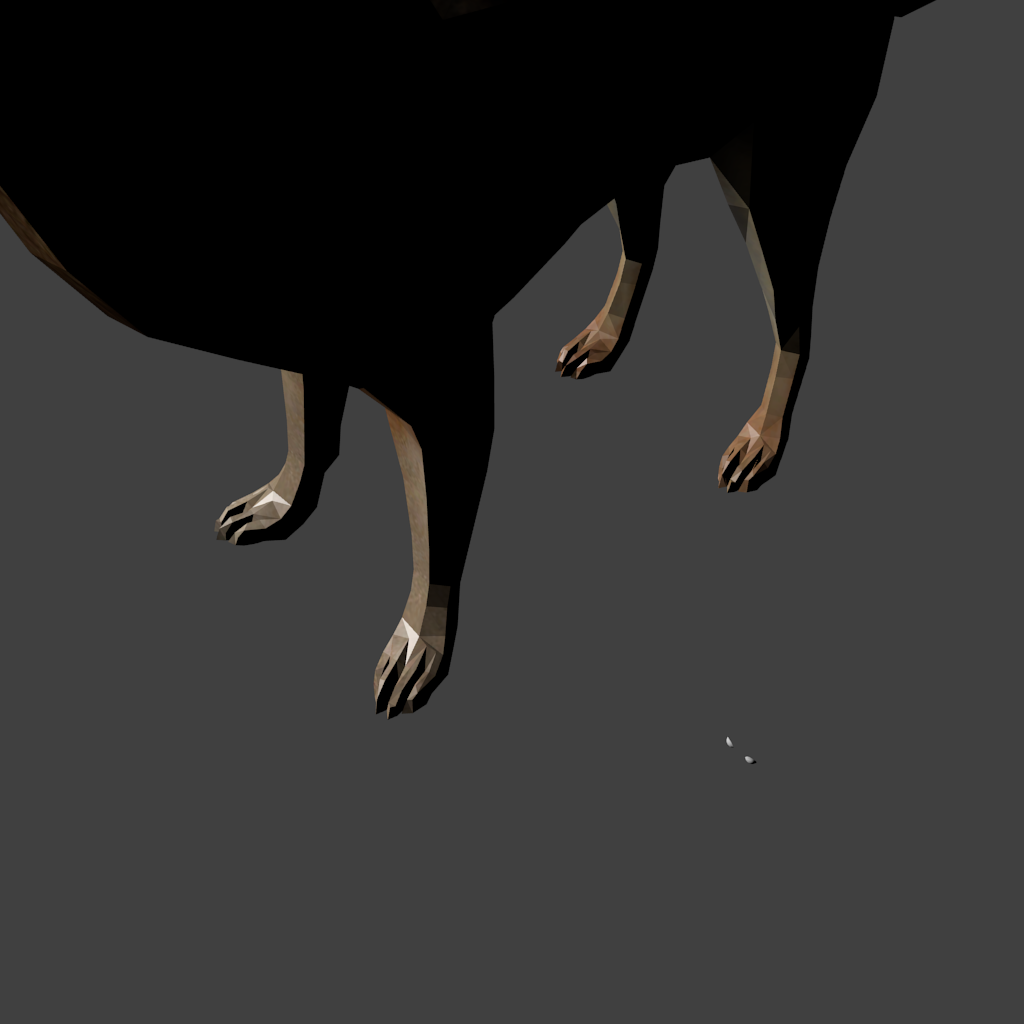Dog: (0, 0, 1024, 1024), (0, 0, 1024, 720)
